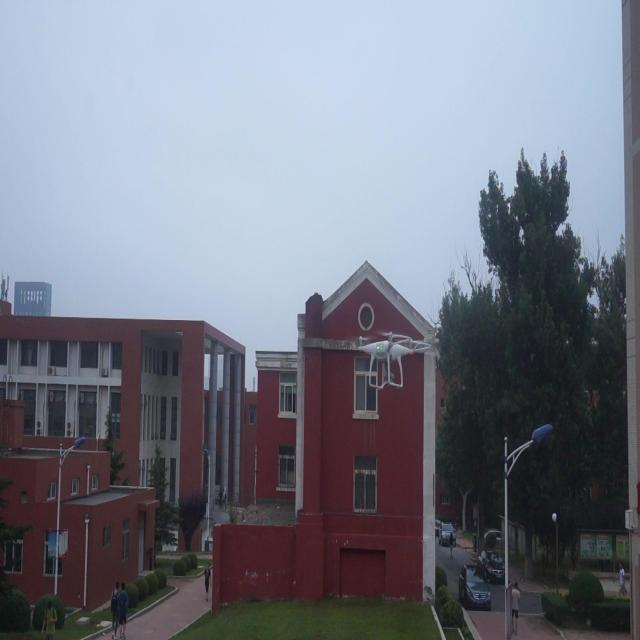UAV: (351, 331, 433, 389)
